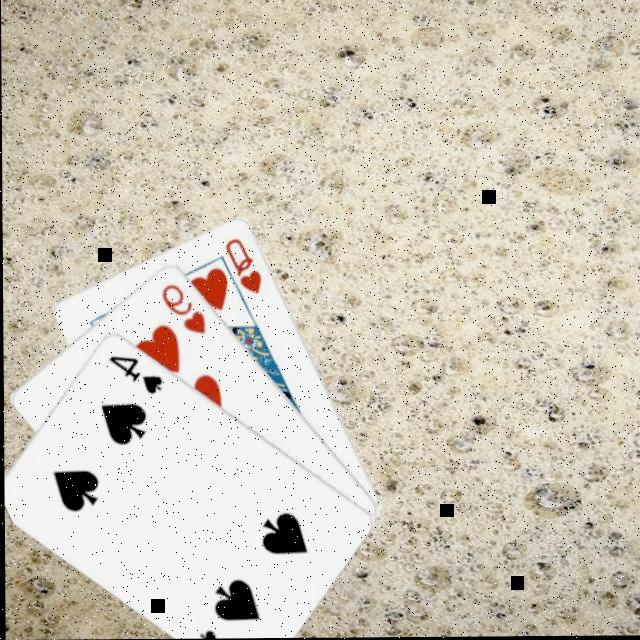4S: (102, 350, 164, 396), (192, 624, 252, 638)
9H: (156, 279, 208, 336)
QH: (220, 233, 262, 296)
